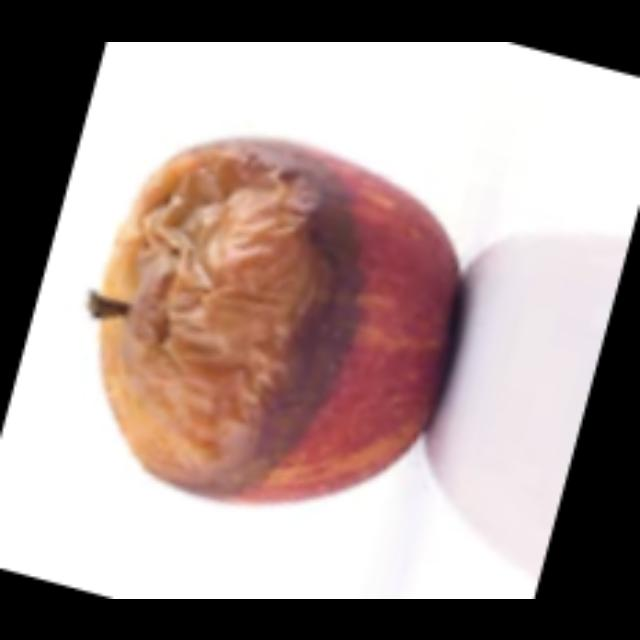Apel Tidak Segar: (77, 120, 481, 510)
